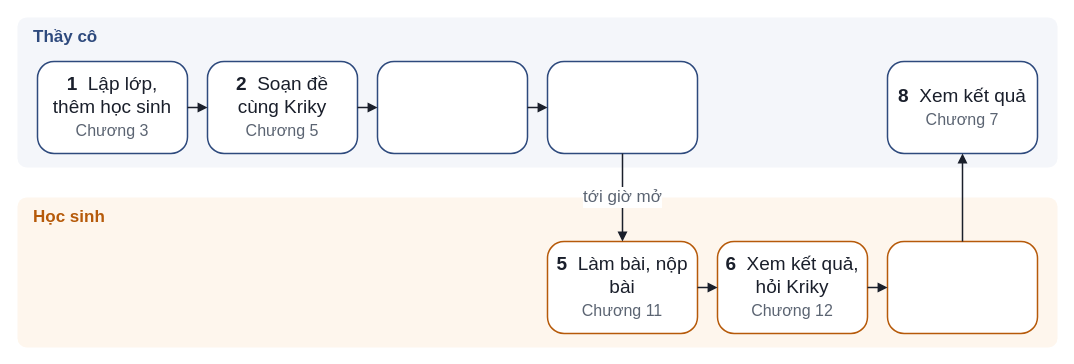
Some shapes in this 1074 by 364 pixel diagram are drawn without their labels. Here are the shapes that lost their labels. From the top down, the centre of each, then its label:
At point (452, 107): "3 Duyệt đề Chương 6".
At point (622, 107): "4 Phát hành cho lớp Chương 6".
At point (962, 287): "7 Làm lại câu sai Chương 13".
